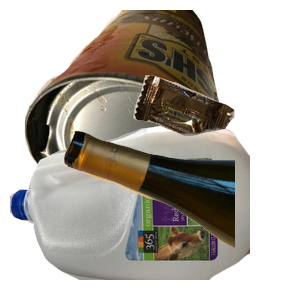glass: (60, 128, 300, 300)
metal: (22, 10, 251, 190)
plastic: (10, 120, 250, 300)
trash: (131, 73, 300, 202)
